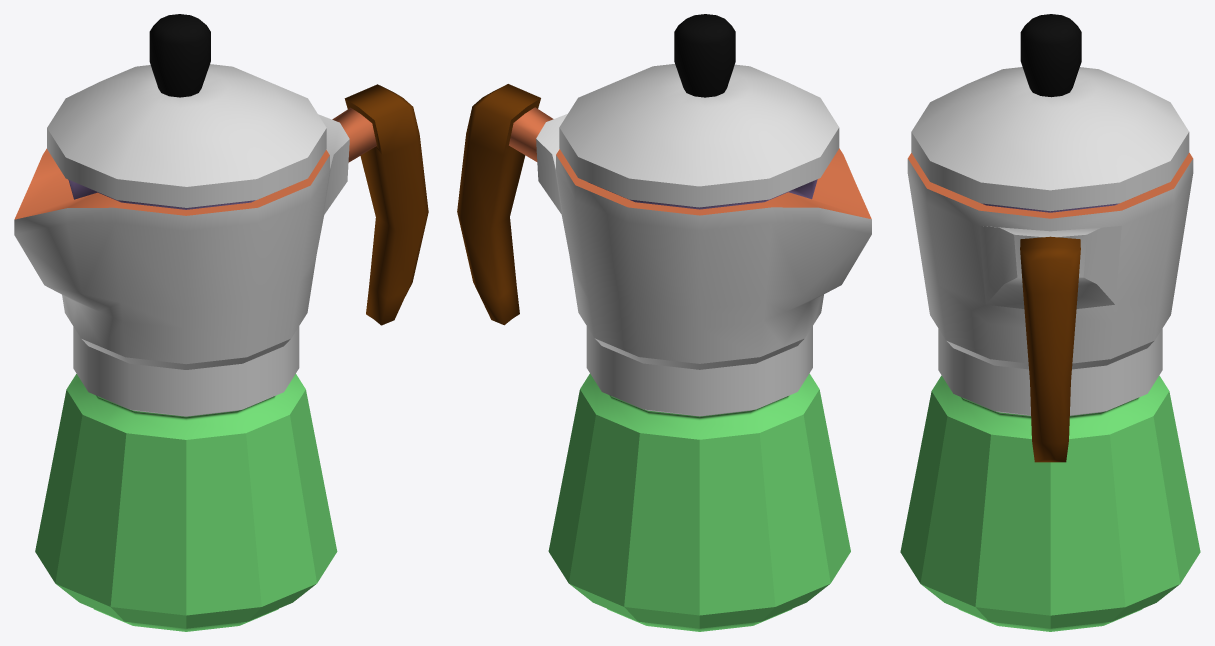
Rendered from perkolator_modell_scale&UV_Malte_001.fbx.
The picture shows the model from 3 angles, left to right: view 1: azimuth 30°, elevation 25°; view 2: azimuth 150°, elevation 25°; view 3: azimuth 270°, elevation 25°; orthographic projection.
Parts seen in each view (by area): view 1: file1.003; view 2: file1.003; view 3: file1.003.
Boxes of the visible parts, x1,y1,x2,y2 form: file1.003: (14,14,428,631); file1.003: (457,14,871,631); file1.003: (900,14,1200,631).
Size of the model in its own units: 171 by 225 by 109.
